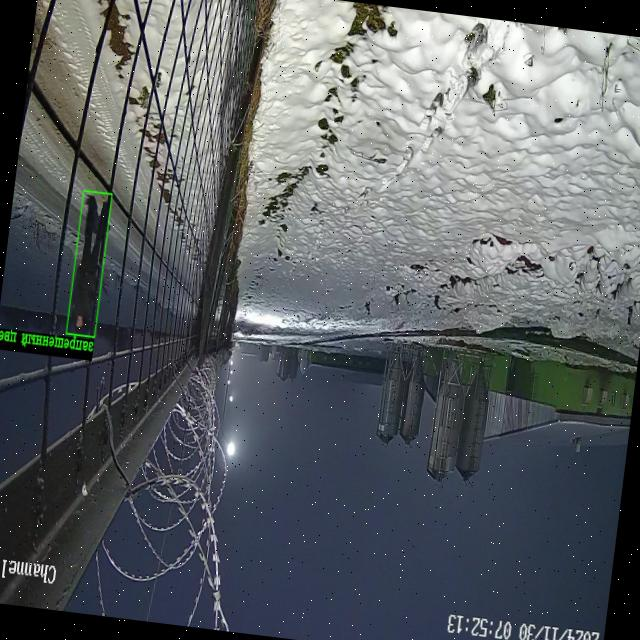Person: (67, 195, 102, 332)
